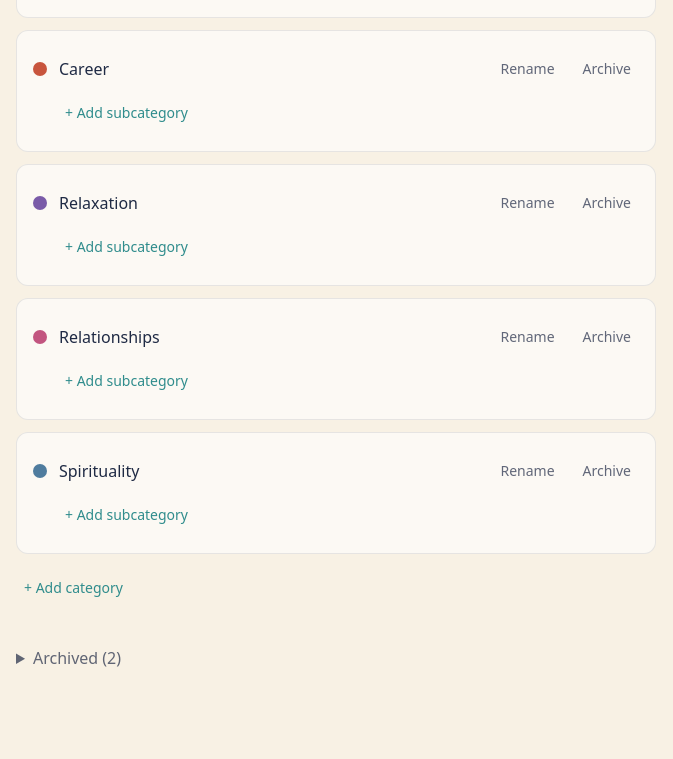
Scenario: CategoriesScreen › defaults the new category color to the first palette color unused by an active main
(page scrolled)
Click the button "+ Add category": (74, 588) [16,566,131,610]
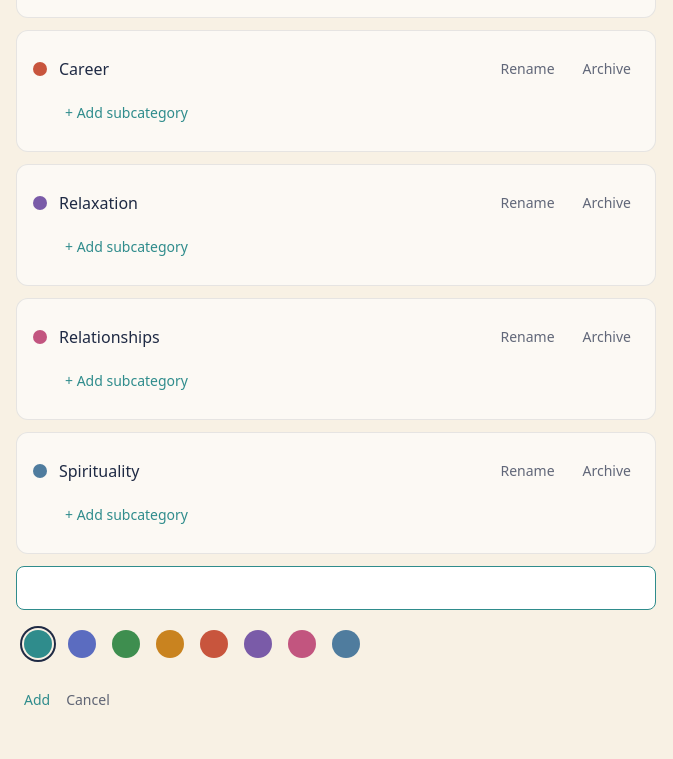
Result: the radio button named "#2F8C8C" is checked at [24,630,52,658]
Click the button "Cancel": (88, 700) [58,678,118,722]
(page scrolled)
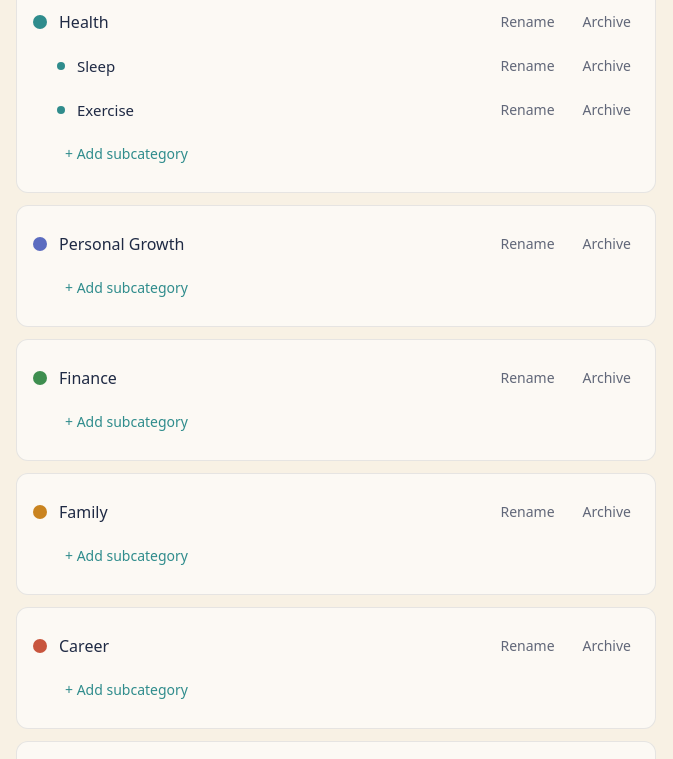
Click the button with aria-label "Archive Finance": (607, 378) [574,356,639,400]
(page scrolled)
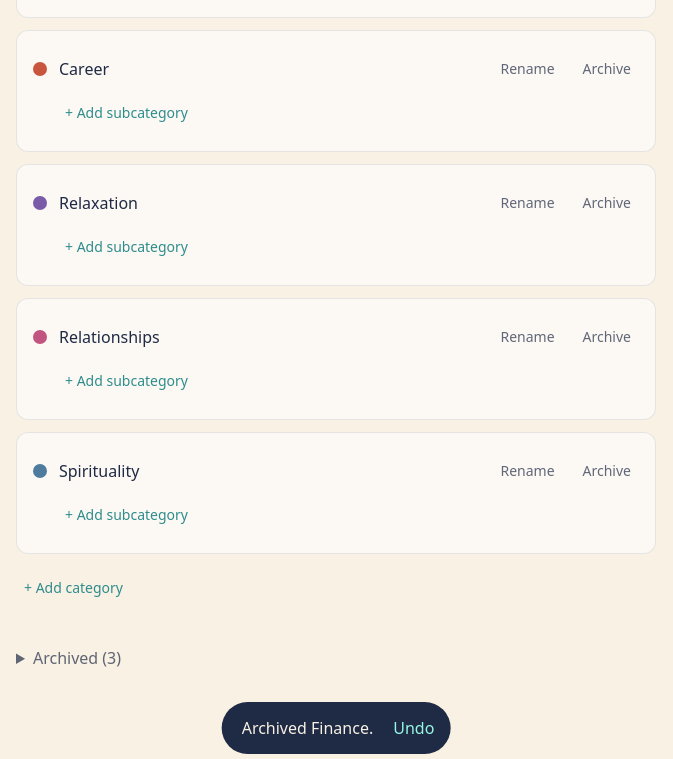
Result: the text "Archived Finance." is shown at [242,716,373,740]
Click the button "+ Add category": (74, 588) [16,566,131,610]
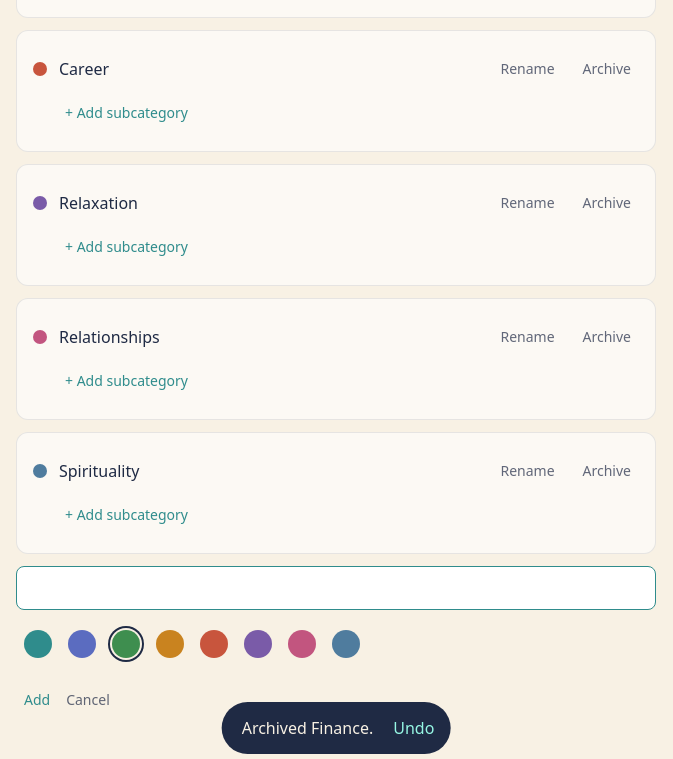
Result: the radio button named "#3E8E4F" is checked at [112,630,140,658]
